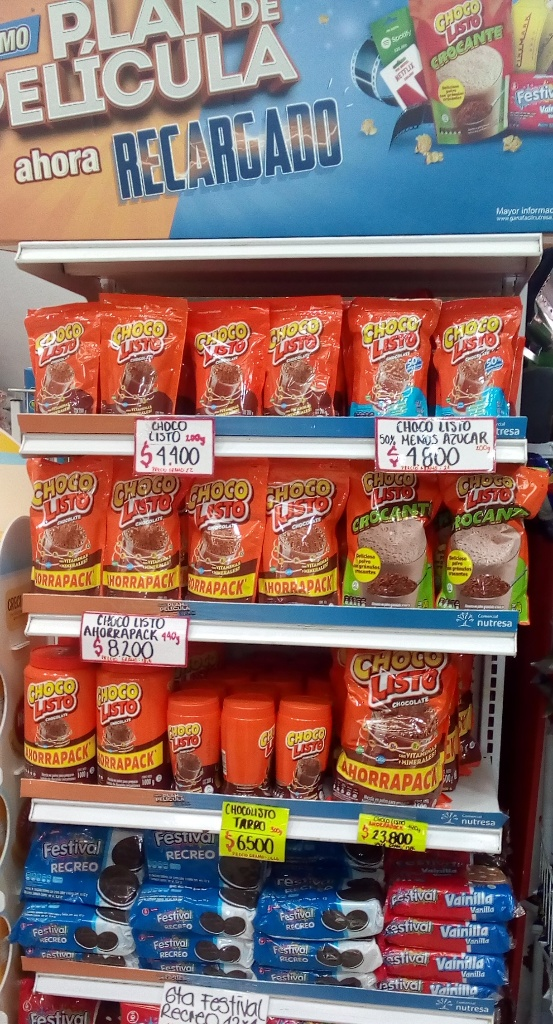COL0170102DYP50000: (347, 459, 439, 609)
COL0170103DYP1,500: (346, 646, 461, 803)
COL0170103DYP44000: (23, 457, 113, 594)
COL0170103TRR00100: (22, 644, 98, 784)
COL0170103TRR30000: (166, 699, 219, 802)
COL0170104DYP20000: (348, 294, 441, 417)
